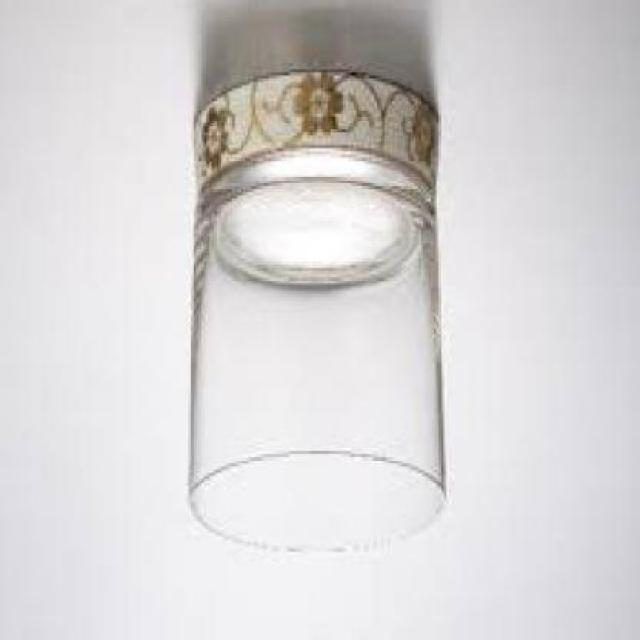glass: (186, 72, 442, 556)
